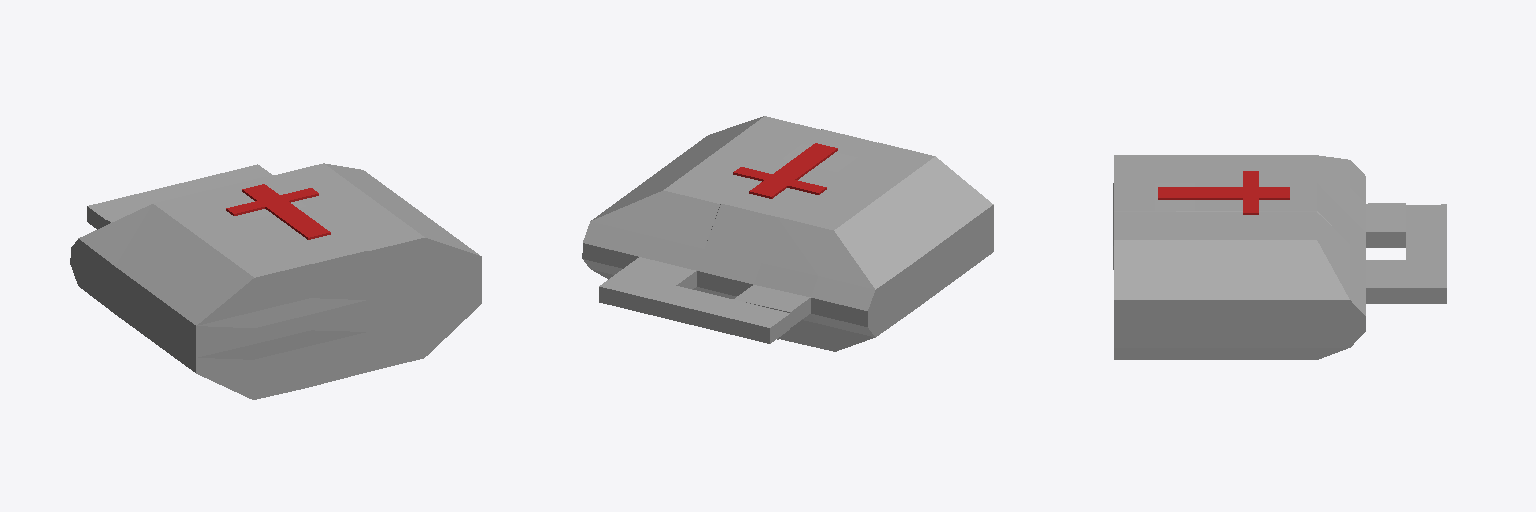
The model's file is med-pack.obj.
3 views of the same model, side by side, from view 1: azimuth 30°, elevation 25°; view 2: azimuth 150°, elevation 25°; view 3: azimuth 270°, elevation 25° (orthographic).
Visible parts, largest first — view 1: Box, Box1; view 2: Box, Box1; view 3: Box, Box1.
Part boxes in pixels (x1,y1,x2,y2): Box: (70, 163, 481, 399); Box1: (226, 184, 330, 239); Box: (582, 116, 993, 351); Box1: (733, 143, 837, 198); Box: (1113, 155, 1446, 359); Box1: (1158, 171, 1289, 214).
Size of the model in its own units: 2.23 by 0.9712 by 2.26.